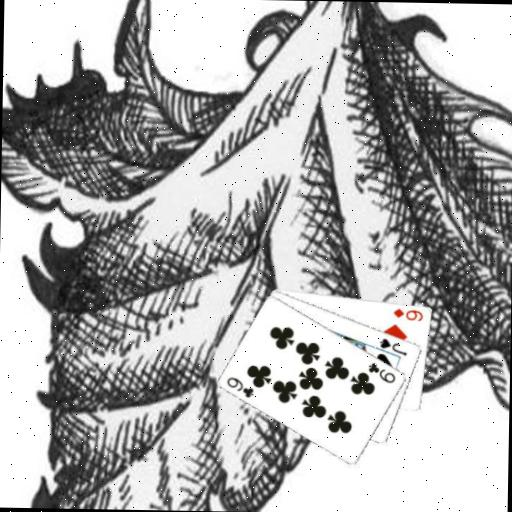6D: (390, 305, 425, 322)
9C: (365, 359, 398, 385), (224, 374, 256, 400)
JS: (377, 335, 409, 357)
